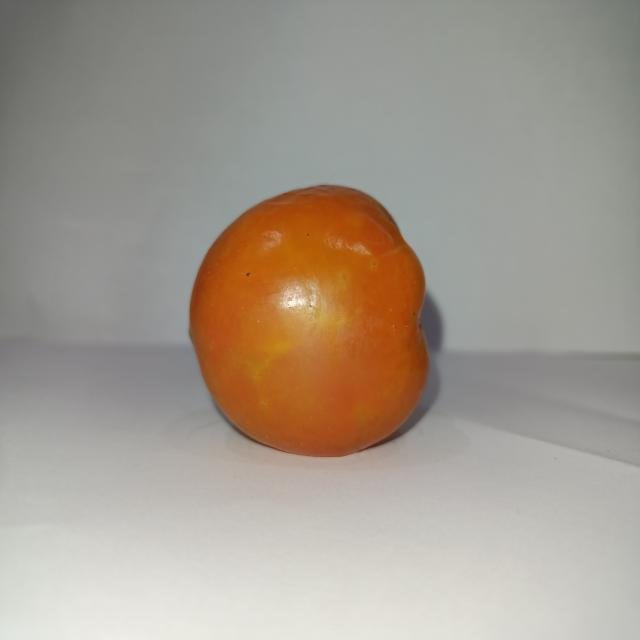Red: (187, 182, 430, 458)
